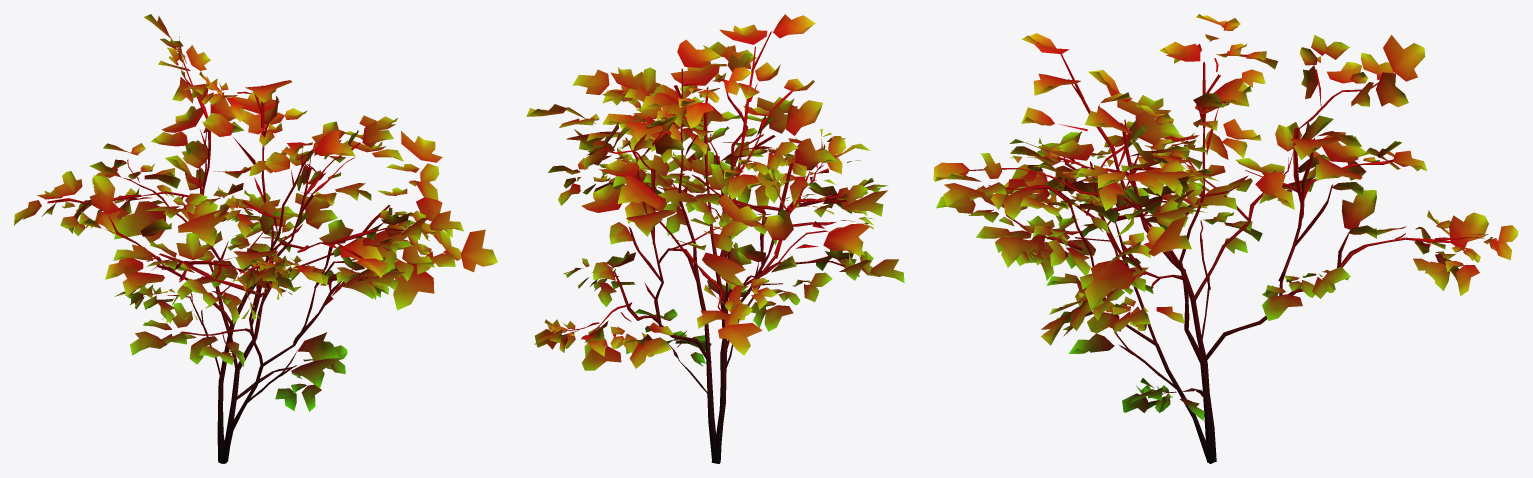
File: SM_EuropeanHornbeam_Sapling_04.fbx
3 renders of one model, left to right at view 1: azimuth 30°, elevation 25°; view 2: azimuth 150°, elevation 25°; view 3: azimuth 270°, elevation 25°, orthographic. The views are drawn at different scales.
Visible parts, largest first — view 1: SM_EuropeanHornbeam_Sapling_04; view 2: SM_EuropeanHornbeam_Sapling_04; view 3: SM_EuropeanHornbeam_Sapling_04.
Boxes of the visible parts, <box> form: SM_EuropeanHornbeam_Sapling_04: <box>14,14,497,463</box>; SM_EuropeanHornbeam_Sapling_04: <box>526,14,904,463</box>; SM_EuropeanHornbeam_Sapling_04: <box>933,14,1518,463</box>.
Bounding box in the file's own units: 134 × 176 × 145.
